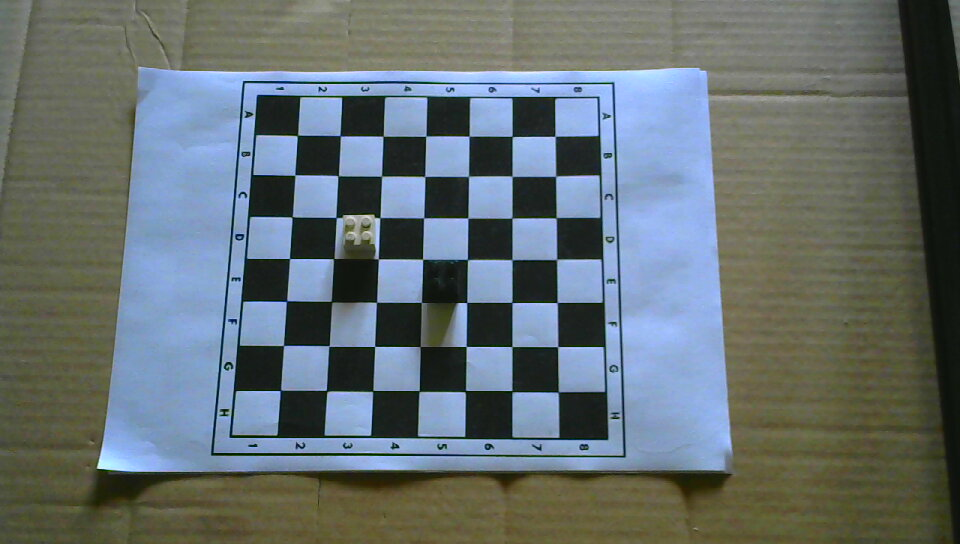bp: (424, 259, 462, 299)
wp: (342, 214, 377, 254)
